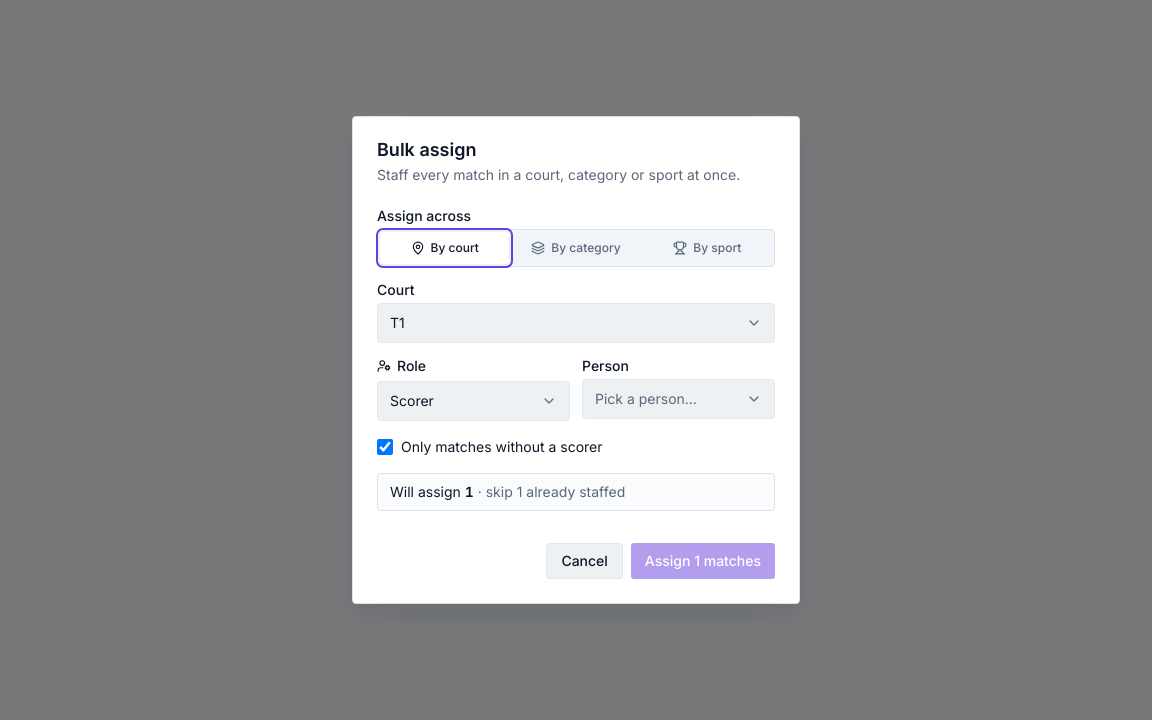
BulkAssignDialog › submits the right payload and toasts a summary
This screenshot has width=1152, height=720.
Click the button labelled "Pick a person…" at (678, 399), box [582,379,775,419]
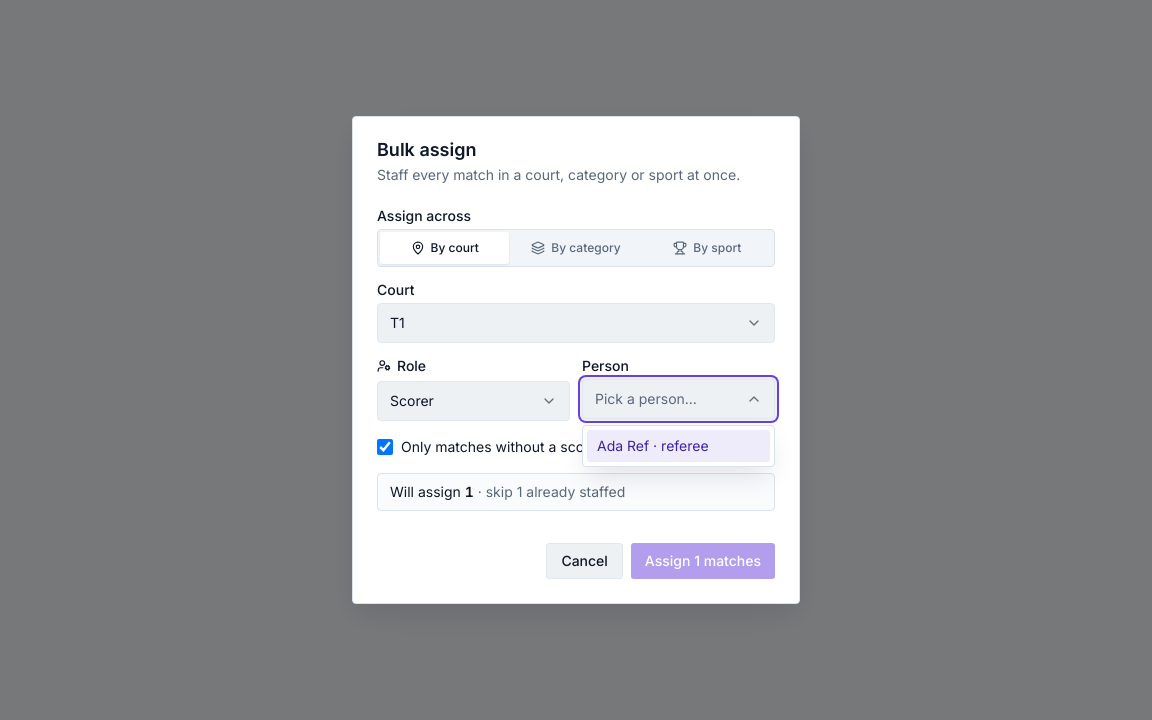
Click the option "Ada Ref · referee" at (678, 446), box [587,430,770,462]
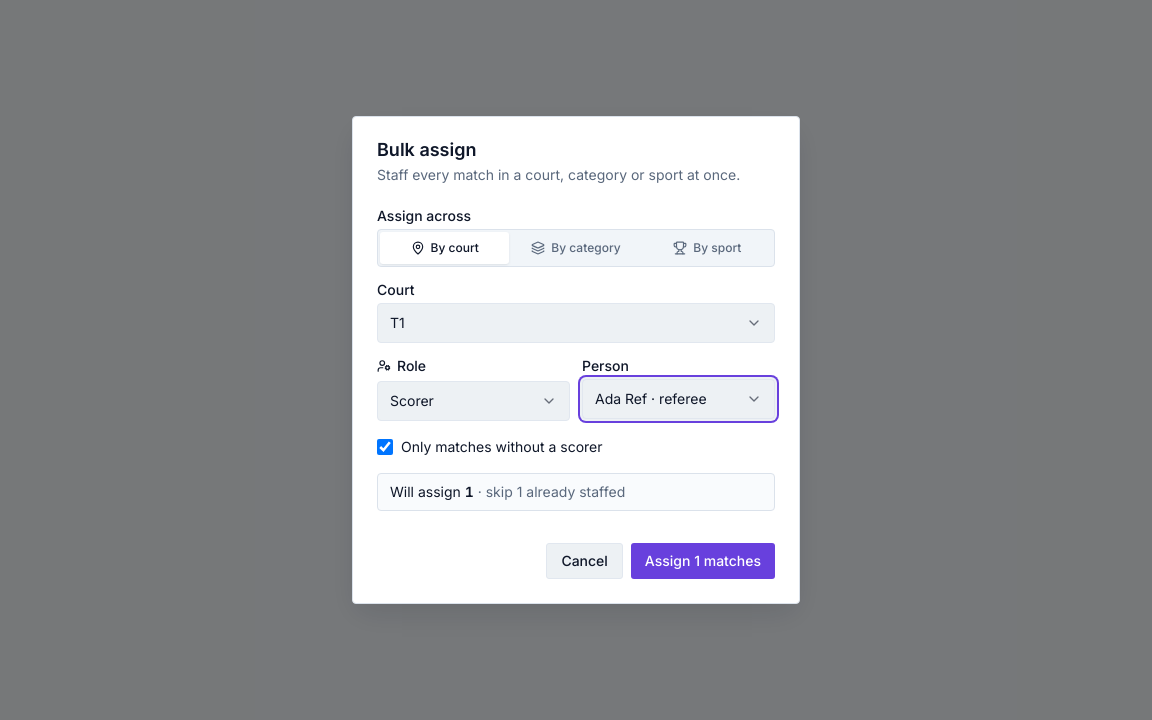
Click the button with test id "bulk-submit" at (703, 561), box [631,543,775,579]
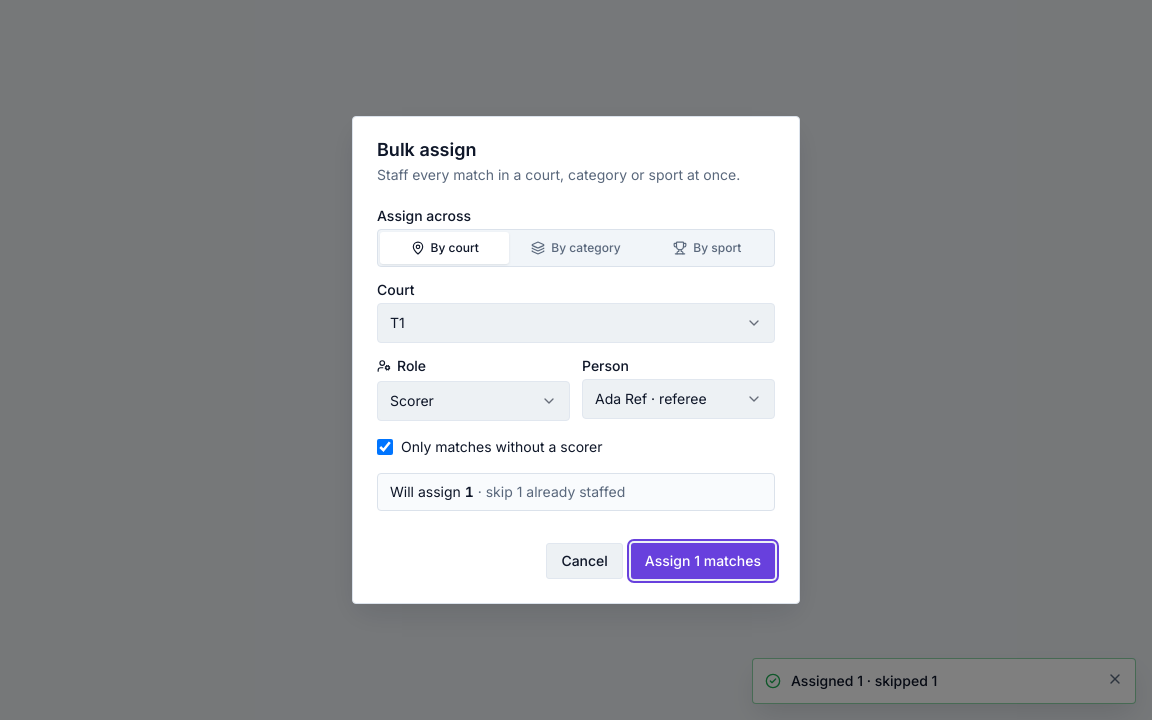
Now the text "Assigned 1 · skipped 1" is shown, box [791,672,937,689]
